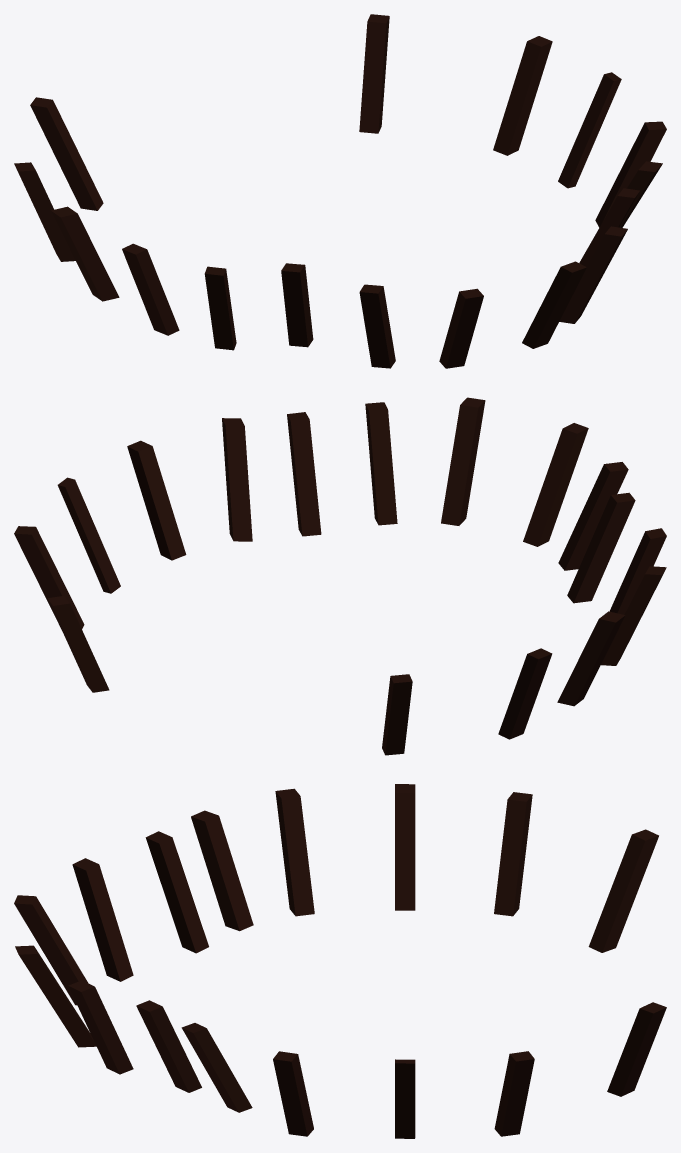
Rendered from NoBBeam(1).fbx.
3 views of the same model, one above another, from view 1: azimuth 30°, elevation 25°; view 2: azimuth 150°, elevation 25°; view 3: azimuth 270°, elevation 25° (orthographic). The views are drawn at different scales.
Parts seen in each view (by area): view 1: NoBBeam; view 2: NoBBeam; view 3: NoBBeam.
Boxes of the visible parts, x1=… form: NoBBeam: x1=14, y1=14, x2=666, y2=368; NoBBeam: x1=14, y1=397, x2=666, y2=755; NoBBeam: x1=14, y1=784, x2=666, y2=1138.
Bounding box in the file's own units: 4405 × 754 × 4329.
